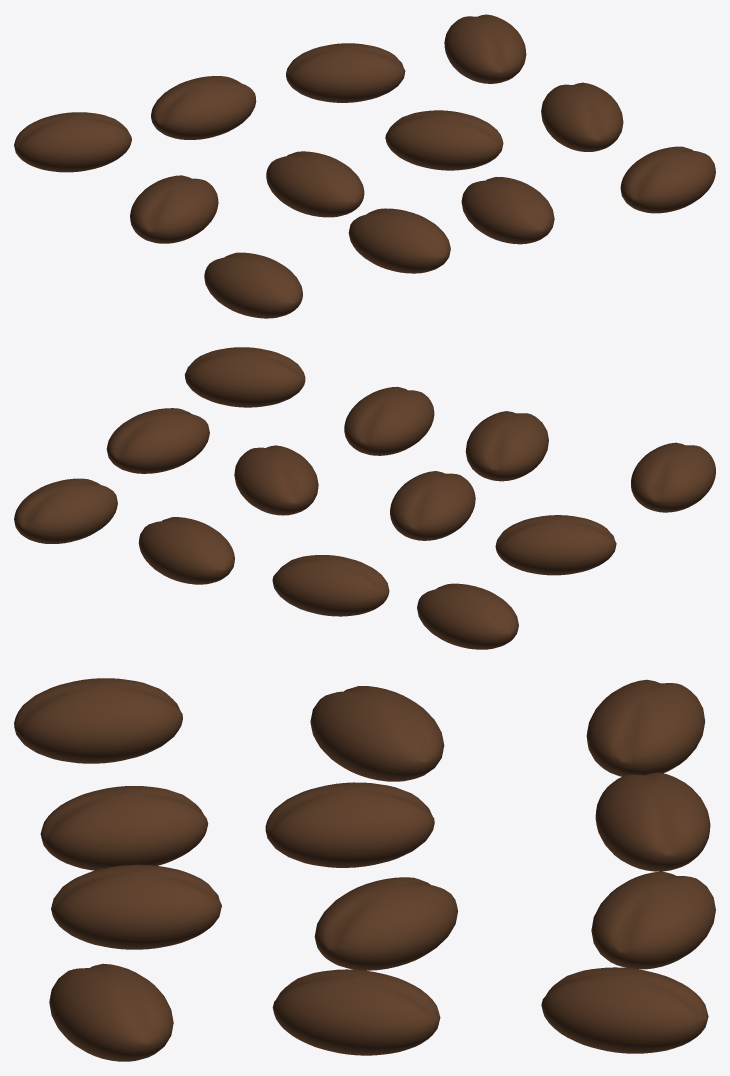
Rendered from beans.glb.
3 renders of one model, top to bottom at view 1: azimuth 30°, elevation 25°; view 2: azimuth 150°, elevation 25°; view 3: azimuth 270°, elevation 25°, orthographic. The views are drawn at different scales.
Parts seen in each view (by area): view 1: Bean_02, Bean_06, Bean_00, Bean_01, Bean_09, Bean_08, Bean_05, Bean_11, Bean_10, Bean_04, Bean_07, Bean_03; view 2: Bean_04, Bean_11, Bean_01, Bean_03, Bean_07, Bean_00, Bean_02, Bean_10, Bean_05, Bean_08, Bean_06, Bean_09; view 3: Bean_10, Bean_05, Bean_08, Bean_07, Bean_03, Bean_09, Bean_06, Bean_04, Bean_02, Bean_11, Bean_00, Bean_01.
Boxes of the visible parts, x1,y1,x2,y2 form: Bean_02: (286, 43, 405, 102); Bean_06: (385, 110, 503, 170); Bean_00: (14, 112, 131, 172); Bean_01: (151, 76, 256, 139); Bean_09: (348, 208, 450, 273); Bean_08: (204, 252, 302, 318); Bean_05: (266, 151, 364, 217); Bean_11: (620, 146, 715, 213); Bean_10: (461, 177, 554, 244); Bean_04: (130, 175, 218, 243); Bean_07: (541, 82, 623, 151); Bean_03: (444, 14, 526, 83); Bean_04: (495, 515, 616, 575); Bean_11: (184, 347, 305, 407); Bean_01: (272, 555, 389, 616); Bean_03: (14, 478, 117, 543); Bean_07: (106, 408, 209, 473); Bean_00: (417, 583, 518, 649); Bean_02: (138, 517, 234, 584); Bean_10: (344, 386, 434, 455); Bean_05: (390, 471, 475, 540); Bean_08: (631, 442, 715, 512); Bean_06: (234, 445, 318, 515); Bean_09: (465, 411, 548, 481); Bean_10: (51, 864, 221, 949); Bean_05: (265, 782, 434, 867); Bean_08: (14, 678, 182, 763); Bean_07: (272, 969, 440, 1055); Bean_03: (541, 967, 708, 1053); Bean_09: (40, 786, 208, 870); Bean_06: (314, 877, 457, 970); Bean_04: (310, 686, 444, 781); Bean_02: (591, 871, 715, 969); Bean_11: (49, 963, 173, 1061); Bean_00: (586, 679, 705, 776); Bean_01: (595, 772, 710, 871).
Bounding box in the file's own units: 0.0518 × 0.0048 × 0.0434.
